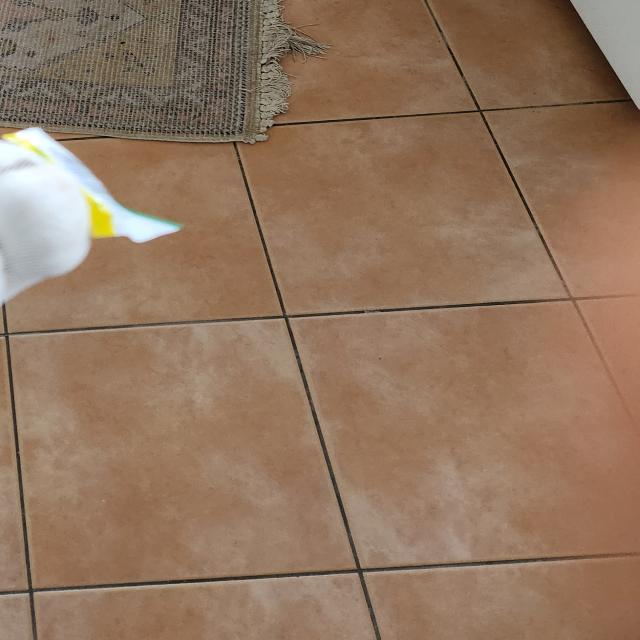garlic: (0, 137, 92, 590)
